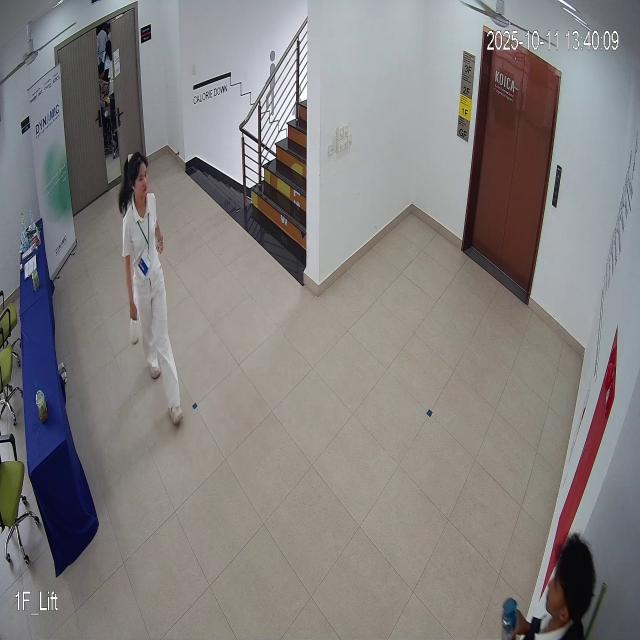face: (126, 149, 156, 211)
